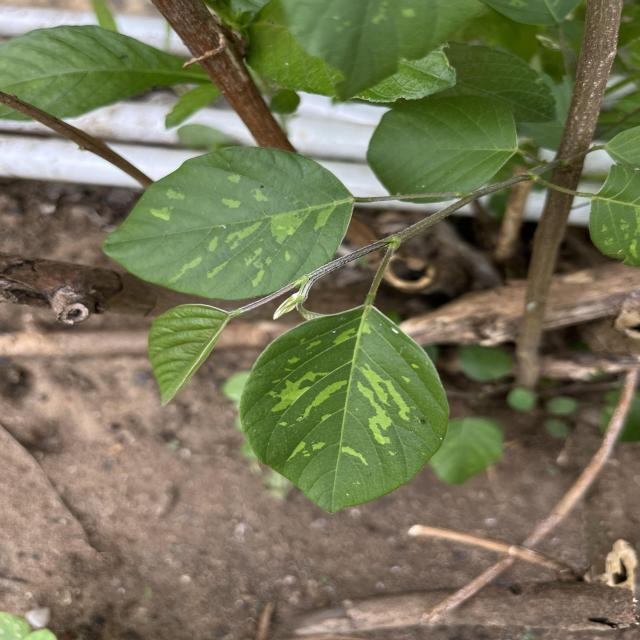Desmodium gangeticum: (236, 301, 453, 517), (100, 142, 360, 303)
